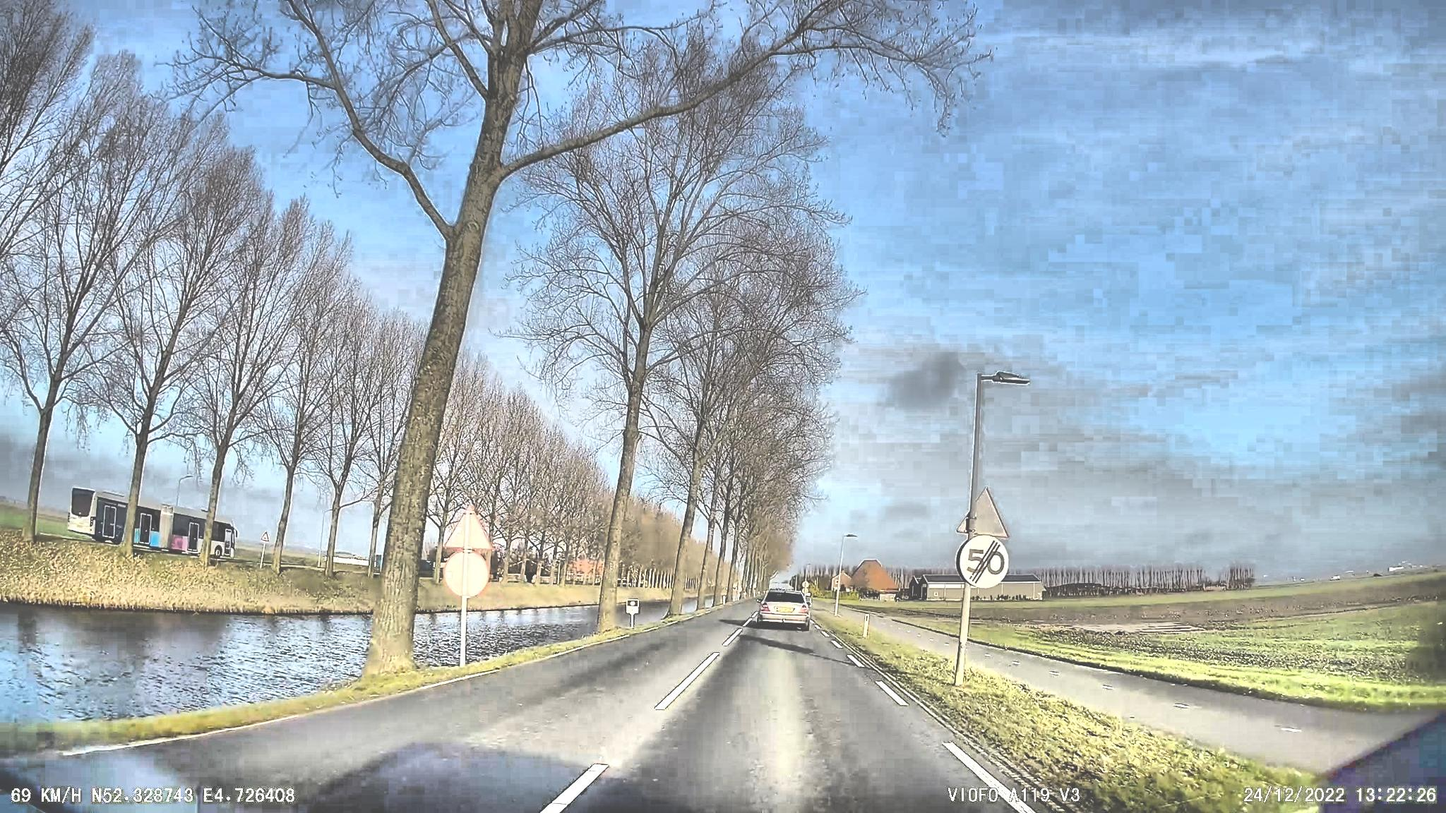Roads: (0, 602, 1056, 813)
